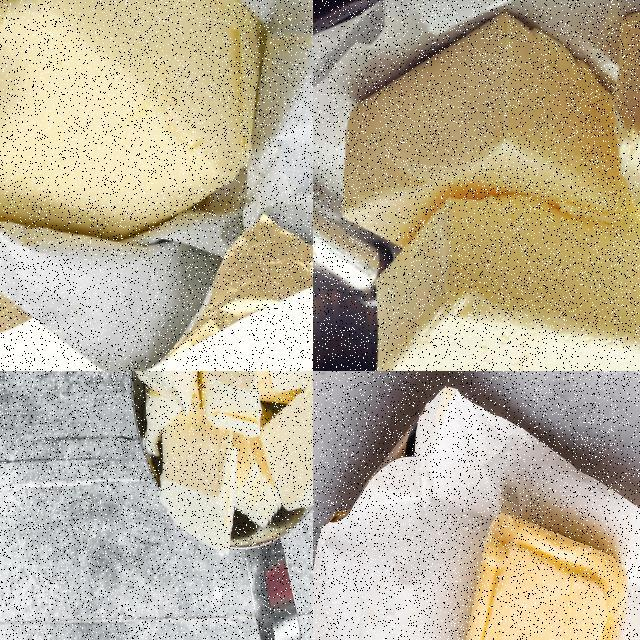Butter: (342, 17, 639, 306), (0, 0, 267, 269), (374, 191, 639, 370), (116, 371, 312, 563), (434, 504, 635, 639), (613, 6, 639, 209)
